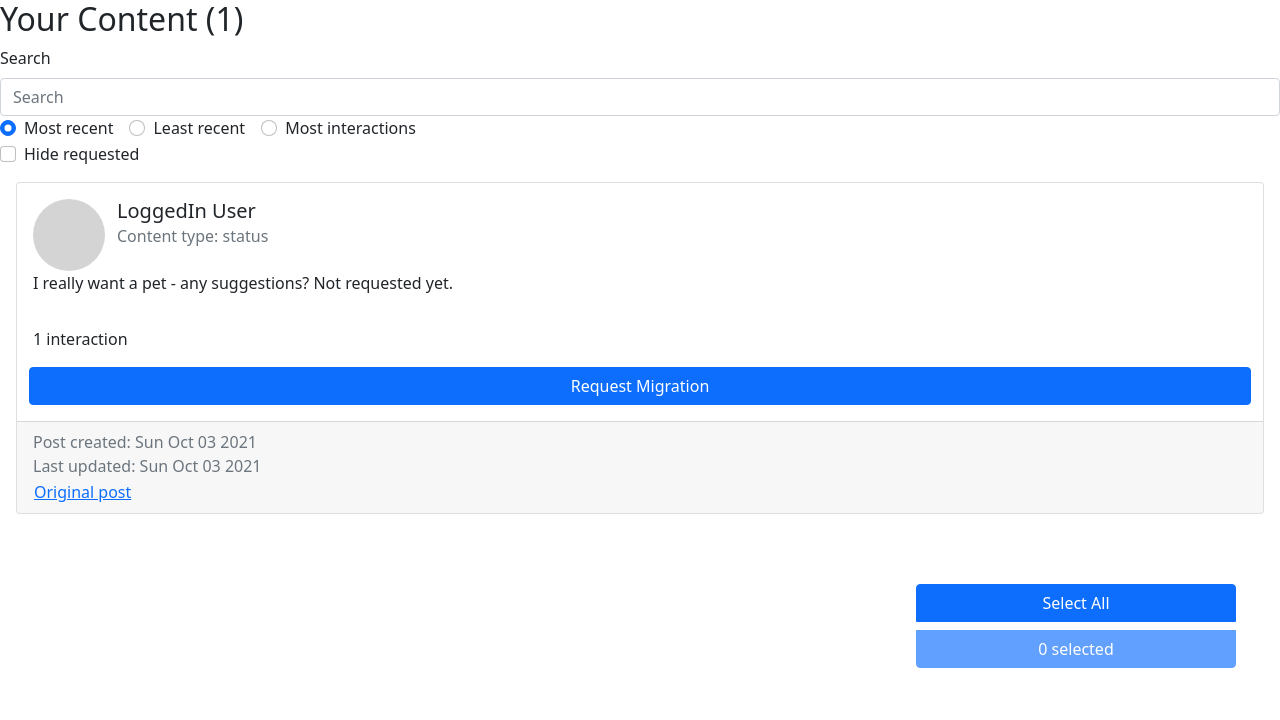
Test: User has only 1 post in FB group › Simulating user clicks the Request Migration button and migrate a single post
Click the button "Request Migration".
click(640, 386)  # box [29,367,1251,405]
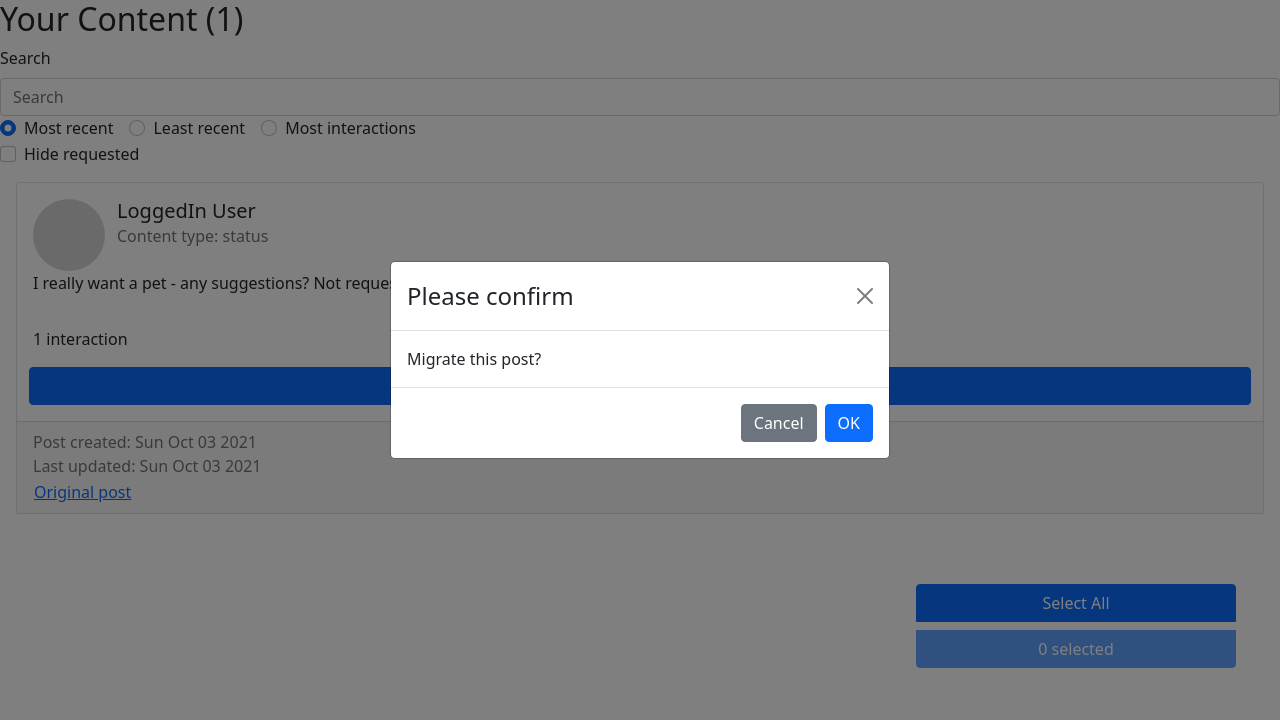
Result: the text "Migrate this post?" is shown at [407,348,541,370]
Click the button "OK".
click(849, 423)  # box [825,404,873,442]
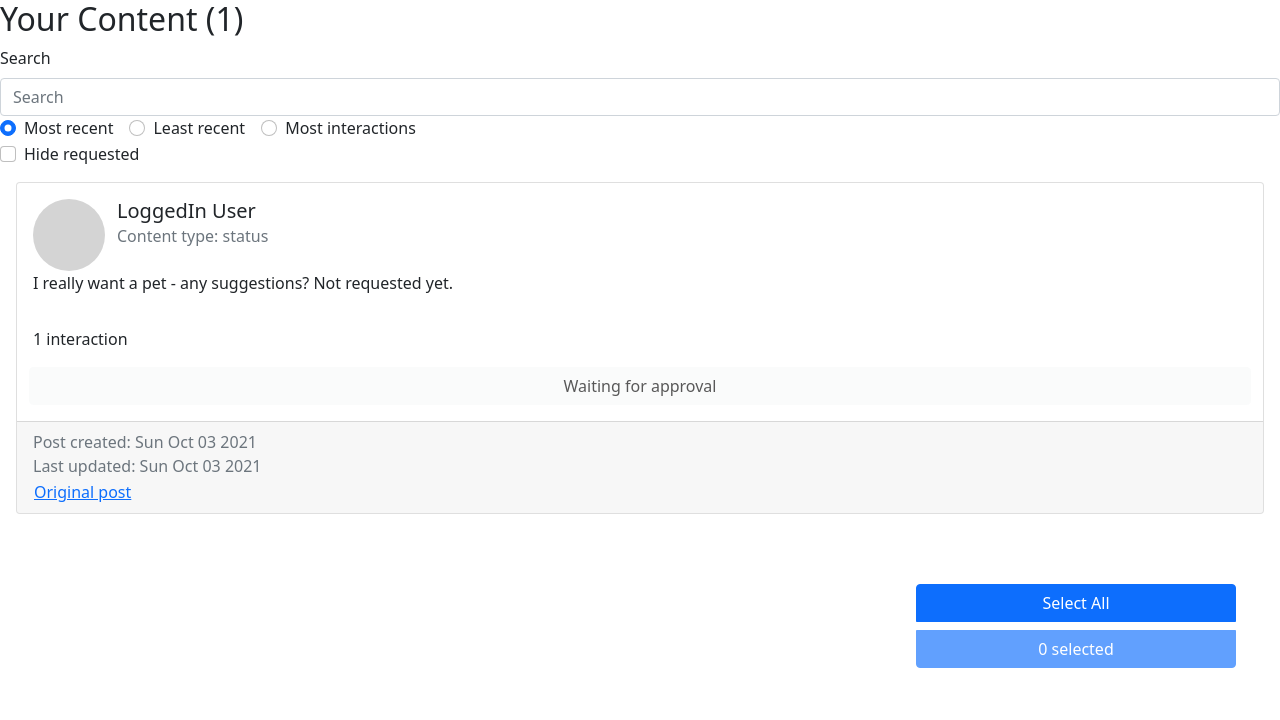
Result: the text "Migrate this post?" is gone
Result: the button "Waiting for approval" is shown at [29,367,1251,405]
Result: the button "Request Migration" is gone
